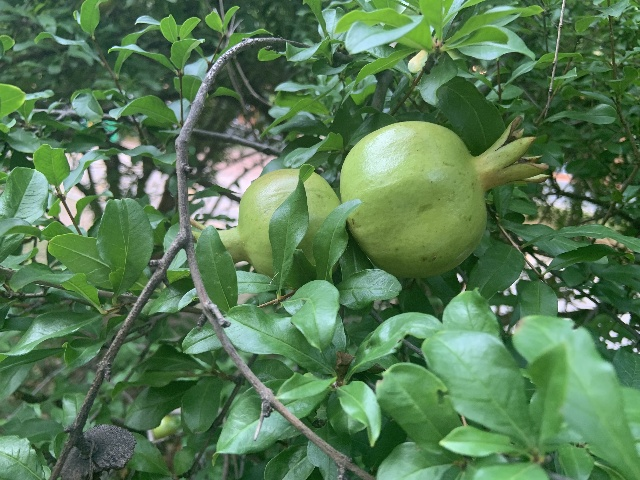mid-growth: (339, 115, 550, 278), (189, 168, 342, 279)
